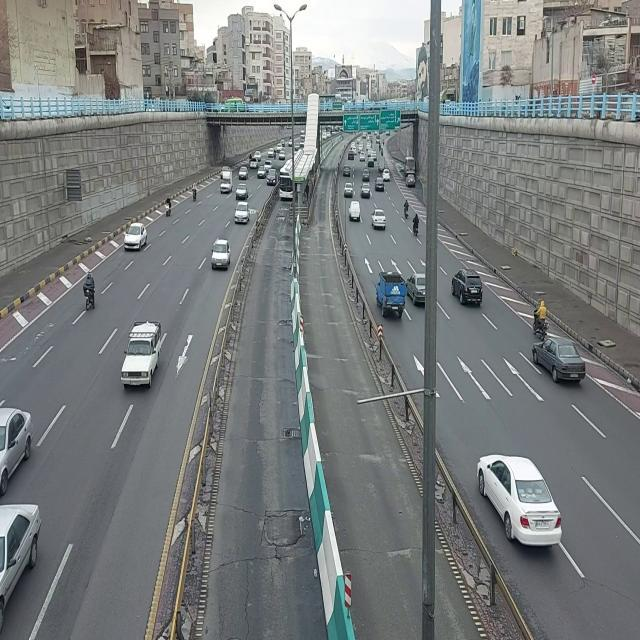Car: (476, 453, 563, 548), (0, 503, 41, 640), (0, 406, 32, 499), (531, 335, 587, 385), (451, 266, 483, 309), (124, 221, 149, 251), (406, 272, 426, 306), (211, 239, 232, 271), (233, 201, 251, 225), (371, 208, 387, 232), (235, 182, 249, 201), (266, 169, 278, 188), (360, 182, 371, 200), (374, 175, 384, 193), (238, 166, 249, 182), (344, 182, 354, 199), (257, 165, 267, 180), (382, 168, 392, 182), (342, 164, 352, 178), (362, 169, 371, 183), (264, 160, 274, 171), (278, 150, 286, 163), (348, 149, 356, 161), (250, 157, 258, 169), (254, 151, 262, 162), (368, 157, 374, 169), (359, 152, 366, 162), (371, 150, 378, 160), (267, 147, 273, 158)
Motorcycle: (533, 300, 550, 342), (279, 157, 293, 199), (83, 272, 96, 308), (164, 195, 172, 219), (191, 180, 198, 204), (413, 213, 419, 238), (403, 198, 409, 220), (381, 147, 385, 157), (274, 149, 277, 161), (383, 138, 386, 146), (379, 142, 381, 152)
Pickup: (120, 319, 162, 389), (376, 271, 408, 320), (220, 169, 234, 195), (348, 201, 361, 223), (378, 155, 386, 173)
